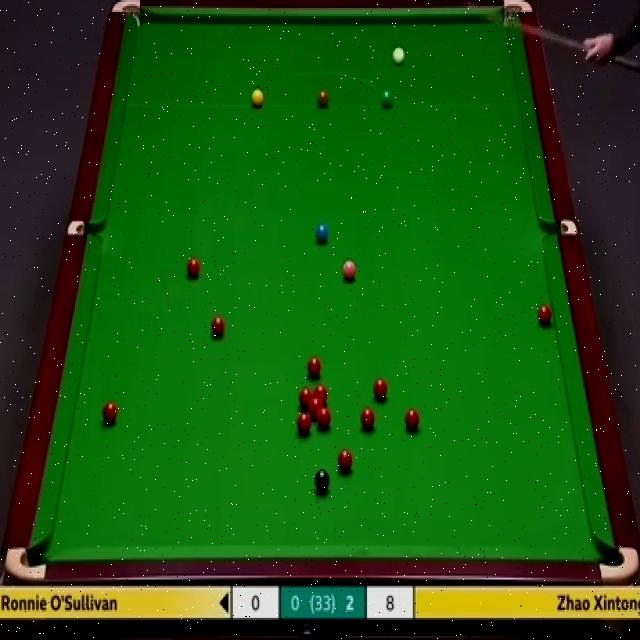black-ball: (314, 466, 331, 494)
blue-ball: (314, 222, 329, 245)
brown-ball: (317, 88, 329, 108)
green-ball: (379, 88, 393, 108)
pink-ball: (340, 260, 360, 288)
red-ball: (336, 446, 355, 474), (536, 302, 554, 331), (211, 312, 227, 338), (100, 401, 118, 424), (372, 377, 389, 401), (359, 408, 375, 432), (404, 409, 420, 433), (185, 258, 202, 280), (316, 408, 331, 431), (307, 357, 322, 379), (312, 384, 328, 404), (298, 390, 313, 410), (297, 413, 311, 434), (309, 398, 323, 416)
white-ball: (390, 44, 408, 68)
yellow-ball: (252, 89, 264, 108)
